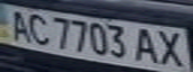0: (87, 20, 109, 56)
3: (106, 22, 133, 61)
7: (48, 15, 72, 51), (66, 17, 90, 53)
A: (130, 25, 163, 64), (3, 7, 33, 42)
C: (24, 11, 54, 46)
X: (154, 28, 190, 69)
